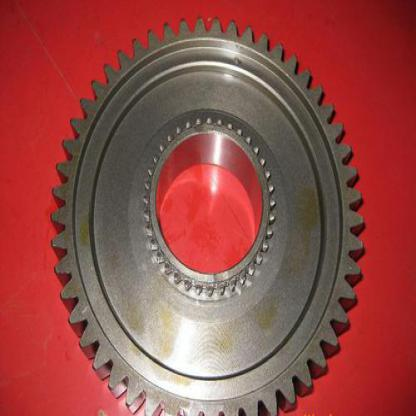FOD: (48, 12, 371, 415)
